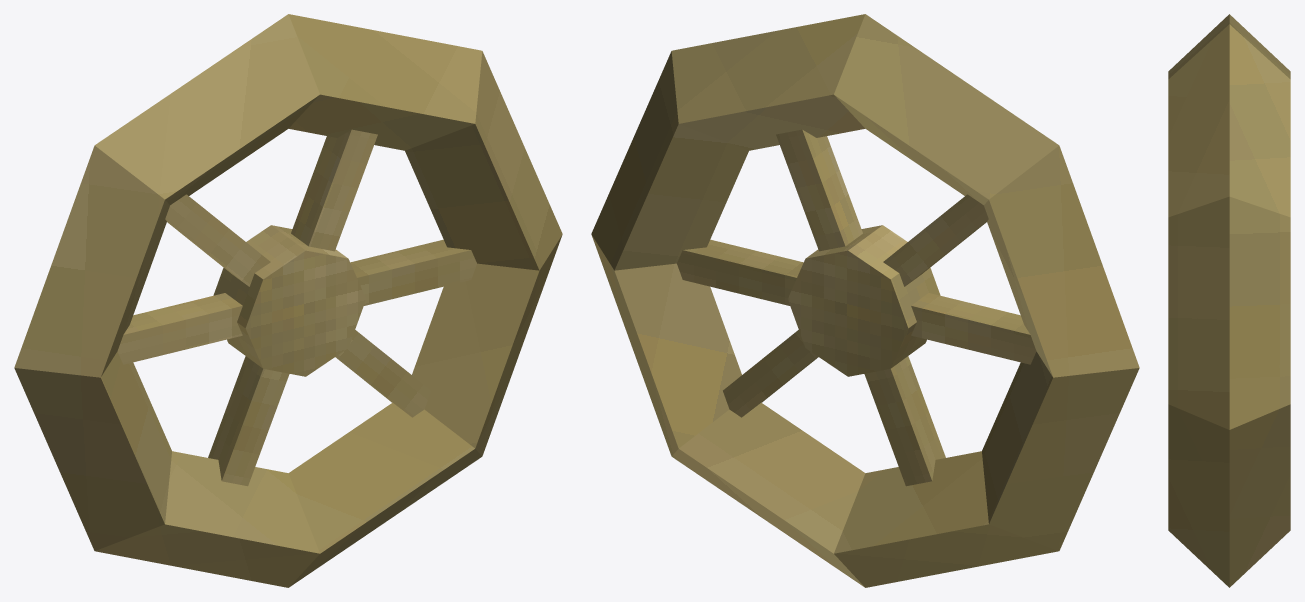
The model's file is wheel.obj.
The picture shows the model from 3 angles, left to right: view 1: azimuth 30°, elevation 25°; view 2: azimuth 150°, elevation 25°; view 3: azimuth 270°, elevation 25°; orthographic projection. The views are drawn at different scales.
Visible parts, largest first — view 1: Cube.001_Cube.000; view 2: Cube.001_Cube.000; view 3: Cube.001_Cube.000.
Part boxes in pixels (<box>): Cube.001_Cube.000: <box>14,14,562,587</box>; Cube.001_Cube.000: <box>591,14,1139,587</box>; Cube.001_Cube.000: <box>1168,14,1290,587</box>.
Bounding box in the file's own units: 0.9091 × 0.9091 × 0.1818.
